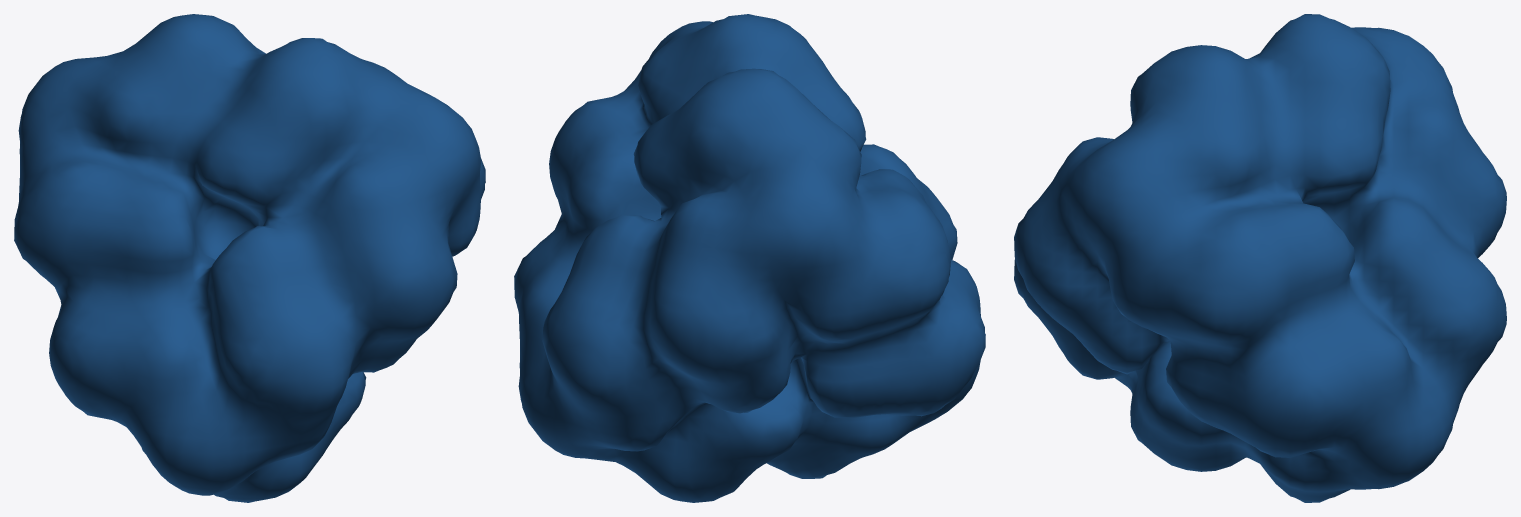
The model's file is 3DPX-000277.glb.
3 renders of one model, left to right at view 1: azimuth 30°, elevation 25°; view 2: azimuth 150°, elevation 25°; view 3: azimuth 270°, elevation 25°, orthographic.
Visible parts, largest first — view 1: surface; view 2: surface; view 3: surface.
Boxes of the visible parts, x1,y1,x2,y2 form: surface: (14,14,485,502); surface: (514,14,985,502); surface: (1014,14,1506,502).
Size of the model in its own units: 111 by 111 by 111.
